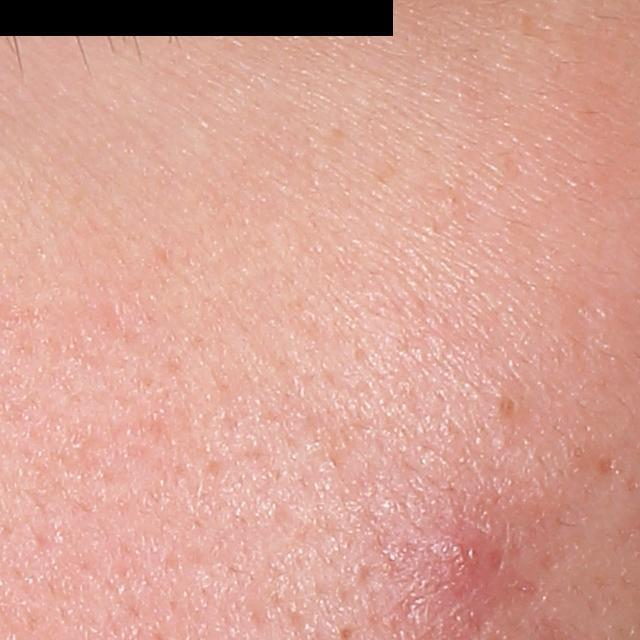atrophic_scar: (593, 450, 624, 476)
comedo: (487, 390, 527, 425), (335, 620, 355, 640)
